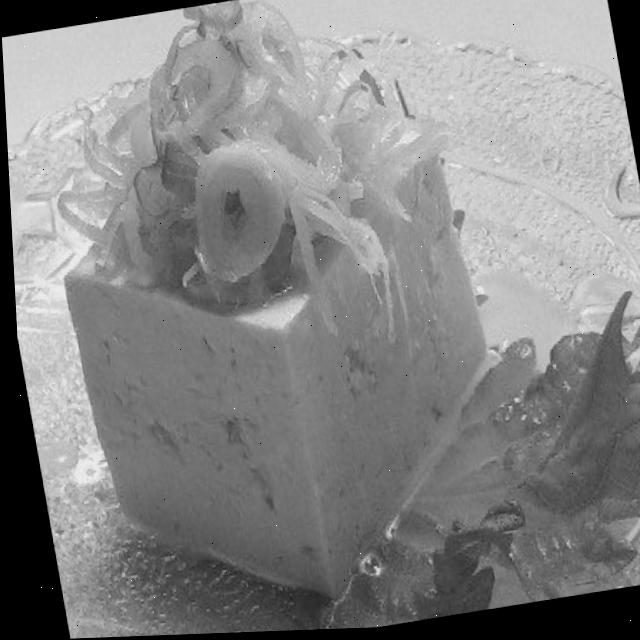豆腐料理: (17, 0, 529, 640)
